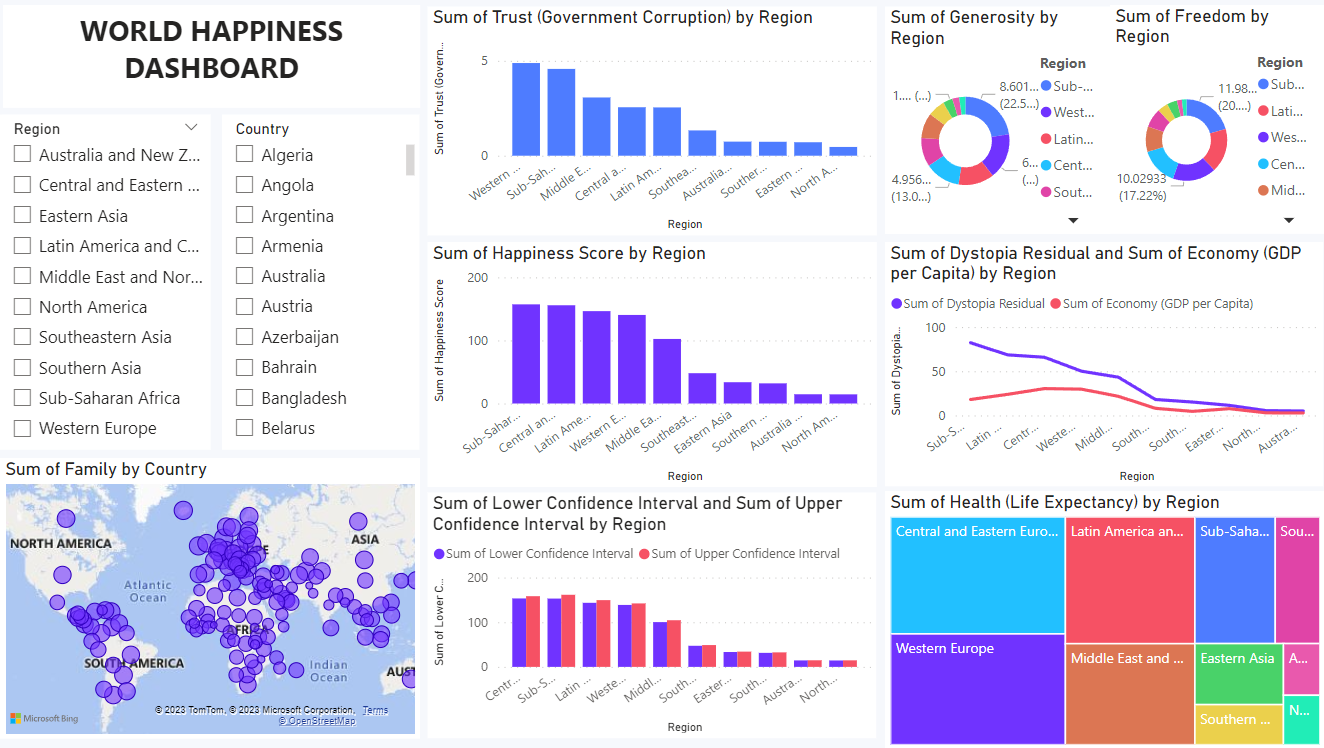

What the dashboard file says about the page in this screenshot:
{"tool":"powerbi","page":{"name":"Page 3","canvas":[1280,720],"ordinal":2},"visuals":[{"type":"map","fields":{"Category":["world_happiness_2016.Country"],"Size":["Sum(world_happiness_2016.Family)"]},"box":[8.8,442.5,400,267.5],"z":0},{"type":"clusteredColumnChart","fields":{"Category":["world_happiness_2016.Region"],"Y":["Sum(world_happiness_2016.Happiness Score)"]},"box":[415.6,237.1,427.8,233.5],"z":1000},{"type":"clusteredColumnChart","fields":{"Category":["world_happiness_2016.Region"],"Y":["Sum(world_happiness_2016.Trust (Government Corruption))"]},"box":[415.6,12.2,427.8,217.8],"z":2000},{"type":"donutChart","fields":{"Category":["world_happiness_2016.Region"],"Y":["Sum(world_happiness_2016.Generosity)"]},"box":[851.1,13.3,214.4,216.7],"z":3000},{"type":"donutChart","fields":{"Category":["world_happiness_2016.Region"],"Y":["Sum(world_happiness_2016.Freedom)"]},"box":[1066,12,204,218],"z":4000},{"type":"treemap","fields":{"Values":["Sum(world_happiness_2016.Health (Life Expectancy))"],"Details":["world_happiness_2016.Region"]},"box":[851.2,473.8,418.8,246.2],"z":5000},{"type":"clusteredColumnChart","fields":{"Y":["Sum(world_happiness_2016.Lower Confidence Interval)","Sum(world_happiness_2016.Upper Confidence Interval)"],"Category":["world_happiness_2016.Region"]},"box":[415,476.2,427.5,233.8],"z":6000},{"type":"lineChart","fields":{"Category":["world_happiness_2016.Region"],"Y":["Sum(world_happiness_2016.Dystopia Residual)","Sum(world_happiness_2016.Economy (GDP per Capita))"]},"box":[851.4,237.1,417.1,232.9],"z":7000},{"type":"slicer","fields":{"Values":["world_happiness_2016.Country"]},"box":[220,116.4,188.2,319.1],"z":8000},{"type":"slicer","fields":{"Values":["world_happiness_2016.Region"]},"box":[9.1,116.4,200.9,319.1],"z":9000},{"type":"textbox","box":[10.9,11.8,397.3,98.2],"z":10000}]}

Visuals, with their boxes in screenshot pixels (x1, y1, x2, y2), scaled from the page's 1280x720 canvas onto the 1324x748 screenshot:
map - world_happiness_2016.Country x Sum(world_happiness_2016.Family): x1=9, y1=460, x2=423, y2=738
clusteredColumnChart - world_happiness_2016.Region x Sum(world_happiness_2016.Happiness Score): x1=430, y1=246, x2=872, y2=489
clusteredColumnChart - world_happiness_2016.Region x Sum(world_happiness_2016.Trust (Government Corruption)): x1=430, y1=13, x2=872, y2=239
donutChart - world_happiness_2016.Region x Sum(world_happiness_2016.Generosity): x1=880, y1=14, x2=1102, y2=239
donutChart - world_happiness_2016.Region x Sum(world_happiness_2016.Freedom): x1=1103, y1=12, x2=1314, y2=239
treemap - Sum(world_happiness_2016.Health (Life Expectancy)) x world_happiness_2016.Region: x1=880, y1=492, x2=1314, y2=747
clusteredColumnChart - Sum(world_happiness_2016.Lower Confidence Interval) x Sum(world_happiness_2016.Upper Confidence Interval): x1=429, y1=495, x2=871, y2=738
lineChart - world_happiness_2016.Region x Sum(world_happiness_2016.Dystopia Residual): x1=881, y1=246, x2=1312, y2=488
slicer - world_happiness_2016.Country: x1=228, y1=121, x2=422, y2=452
slicer - world_happiness_2016.Region: x1=9, y1=121, x2=217, y2=452
textbox: x1=11, y1=12, x2=422, y2=114
